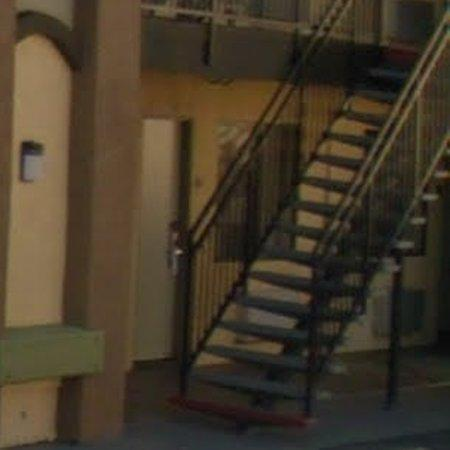stairs: (193, 12, 450, 413)
